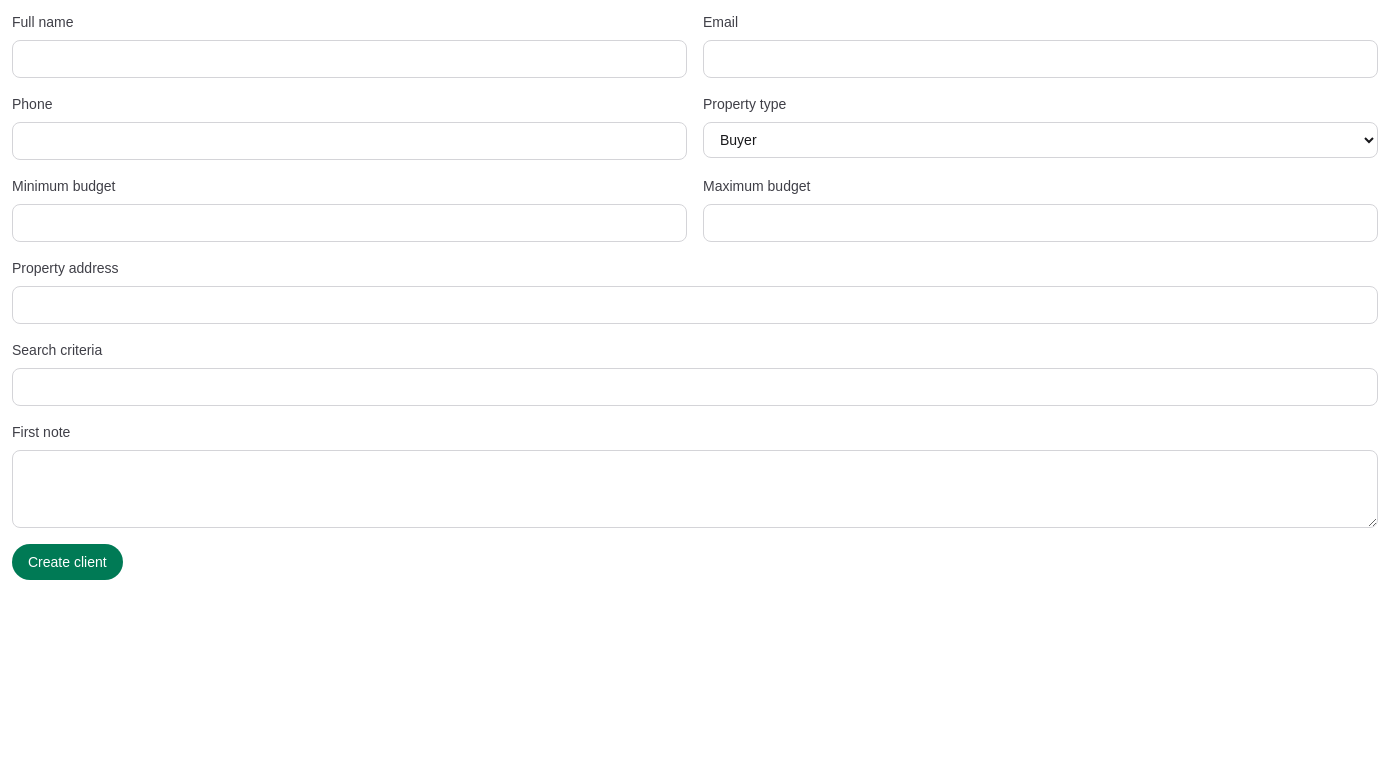
AddClientForm › shows required field validation on submit
The width and height of the screenshot is (1390, 780).
Click the button "Create client" at point(67, 562), box [12,544,123,580]
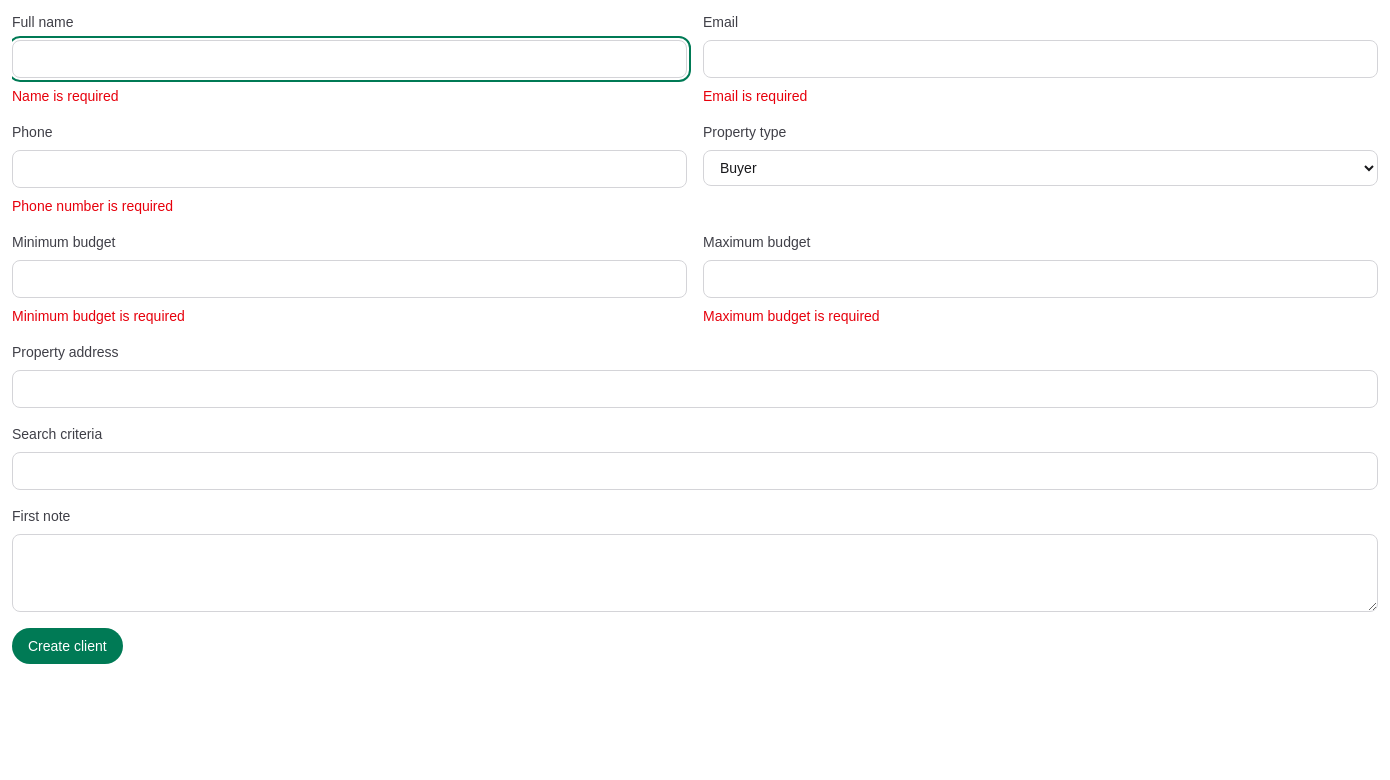
Now the text "Name is required" is shown, box [12,88,119,104]
Now the text "Email is required" is shown, box [703,88,807,104]
Now the text "Phone number is required" is shown, box [12,198,173,214]
